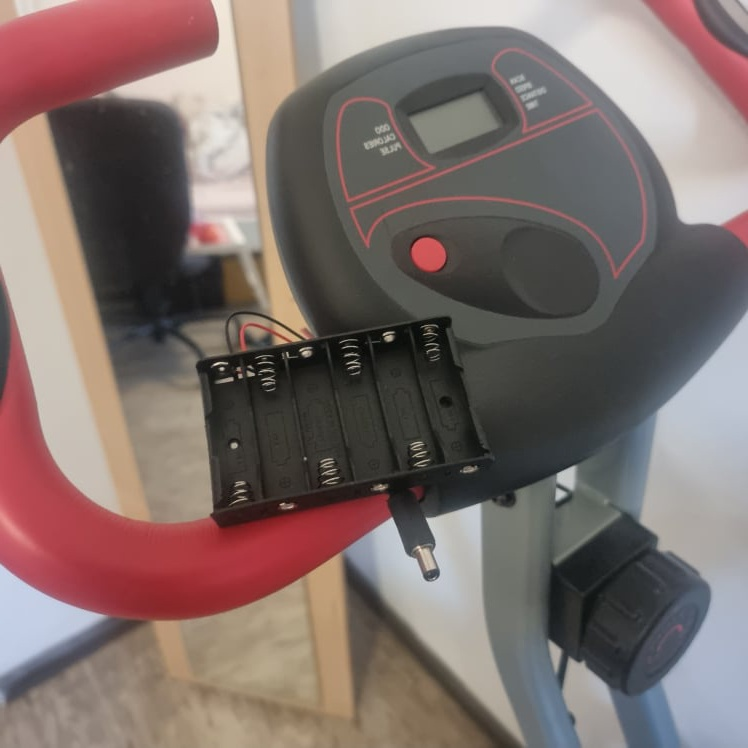BATTERY BOX: (195, 315, 494, 529)
